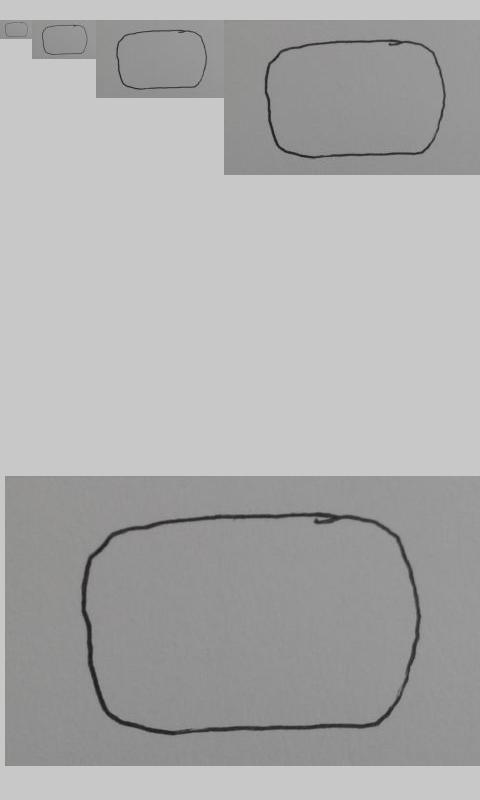chip: (81, 513, 424, 735), (263, 39, 446, 159), (115, 29, 208, 90), (41, 24, 89, 56), (5, 22, 29, 37)
